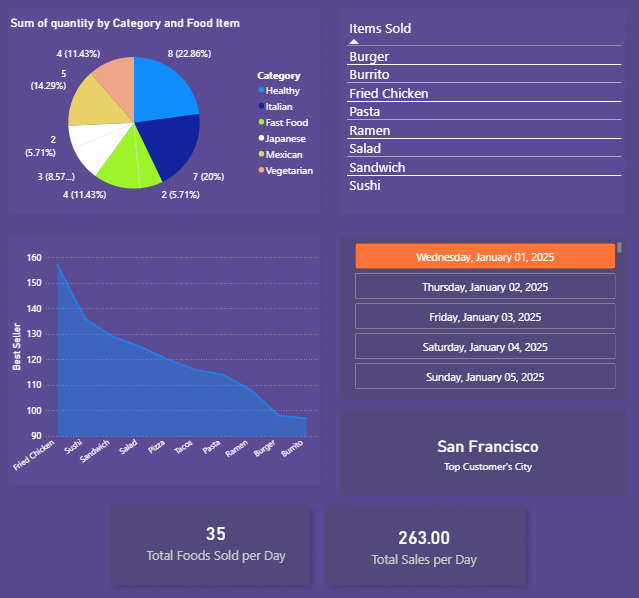

The dashboard page shown, as its layout file describes it:
{"tool":"powerbi","page":{"name":"Page 1","canvas":[1280,1200],"ordinal":0},"visuals":[{"type":"advancedSlicerVisual","fields":{"Values":["public food_sales.sales_date"]},"box":[704,480,544,304],"z":0},{"type":"card","fields":{"Values":["Sum(public food_sales.total_sales)"]},"box":[704,1024,288,128],"z":1000},{"type":"card","fields":{"Values":["Sum(public food_sales.quantity)"]},"box":[288,1008,288,144],"z":2000},{"type":"tableEx","fields":{"Values":["public food_sales.food_item"]},"box":[688,32,560,400],"z":3000},{"type":"pieChart","title":"Sum of quantity by Category and Food Item","fields":{"Y":["Sum(public food_sales.quantity)"],"Category":["public food_sales.category"],"Series":["public food_sales.food_item"]},"box":[16,32,624,400],"z":4000},{"type":"stackedAreaChart","fields":{"Category":["public food_sales.food_item"],"Y":["public food_sales.Bess Seller"]},"box":[16,496,624,464],"z":5000},{"type":"card","fields":{"Values":["public food_sales.Top Customer's City"]},"box":[704,832,544,144],"z":6000}]}

Visuals, with their boxes in screenshot pixels (x1, y1, x2, y2), scaled from the page's 1280x1200 canvas onto the 639x598 screenshot:
advancedSlicerVisual - public food_sales.sales_date: 351/239/623/391
card - Sum(public food_sales.total_sales): 351/510/495/574
card - Sum(public food_sales.quantity): 144/502/288/574
tableEx - public food_sales.food_item: 343/16/623/215
"Sum of quantity by Category and Food Item" pieChart: 8/16/320/215
stackedAreaChart - public food_sales.food_item x public food_sales.Bess Seller: 8/247/320/478
card - public food_sales.Top Customer's City: 351/415/623/486
